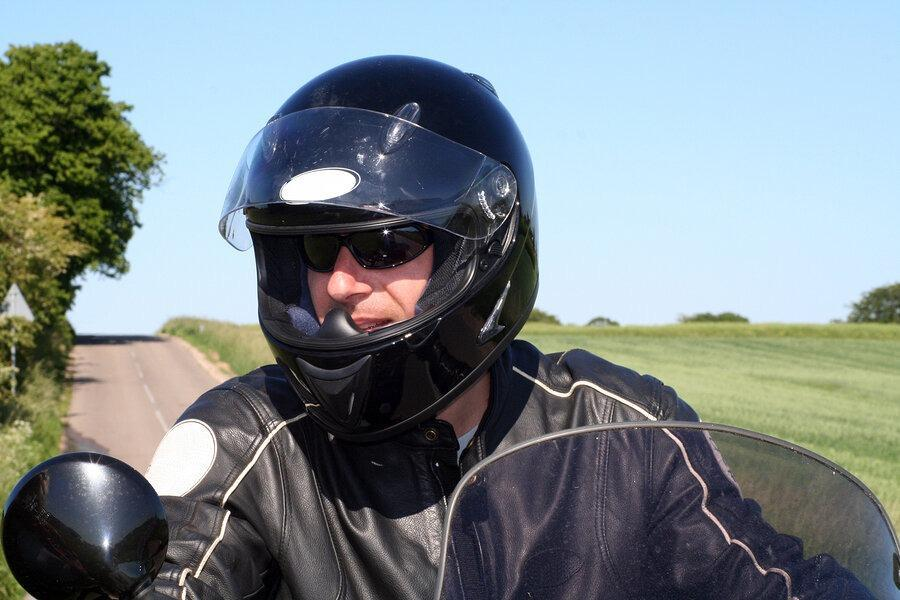helmet: (215, 52, 541, 445)
